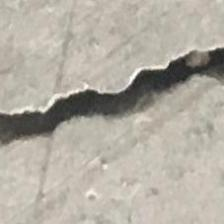Crack: (0, 31, 224, 165)
